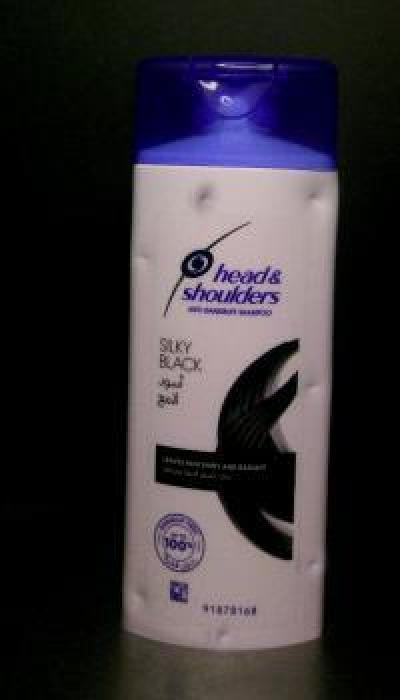dent_unacc: (181, 175, 239, 217), (293, 176, 339, 224), (124, 569, 158, 615), (299, 365, 329, 417), (130, 243, 162, 287), (300, 537, 328, 587)
